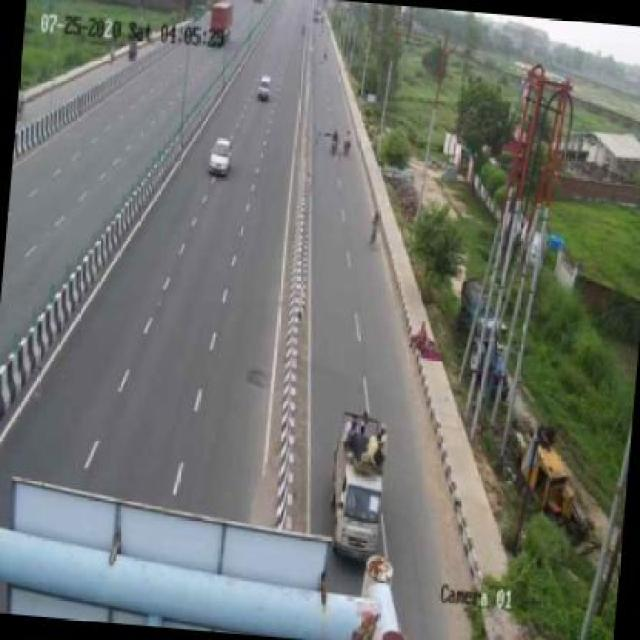car: (322, 408, 404, 563), (208, 137, 234, 180), (254, 72, 280, 105)
